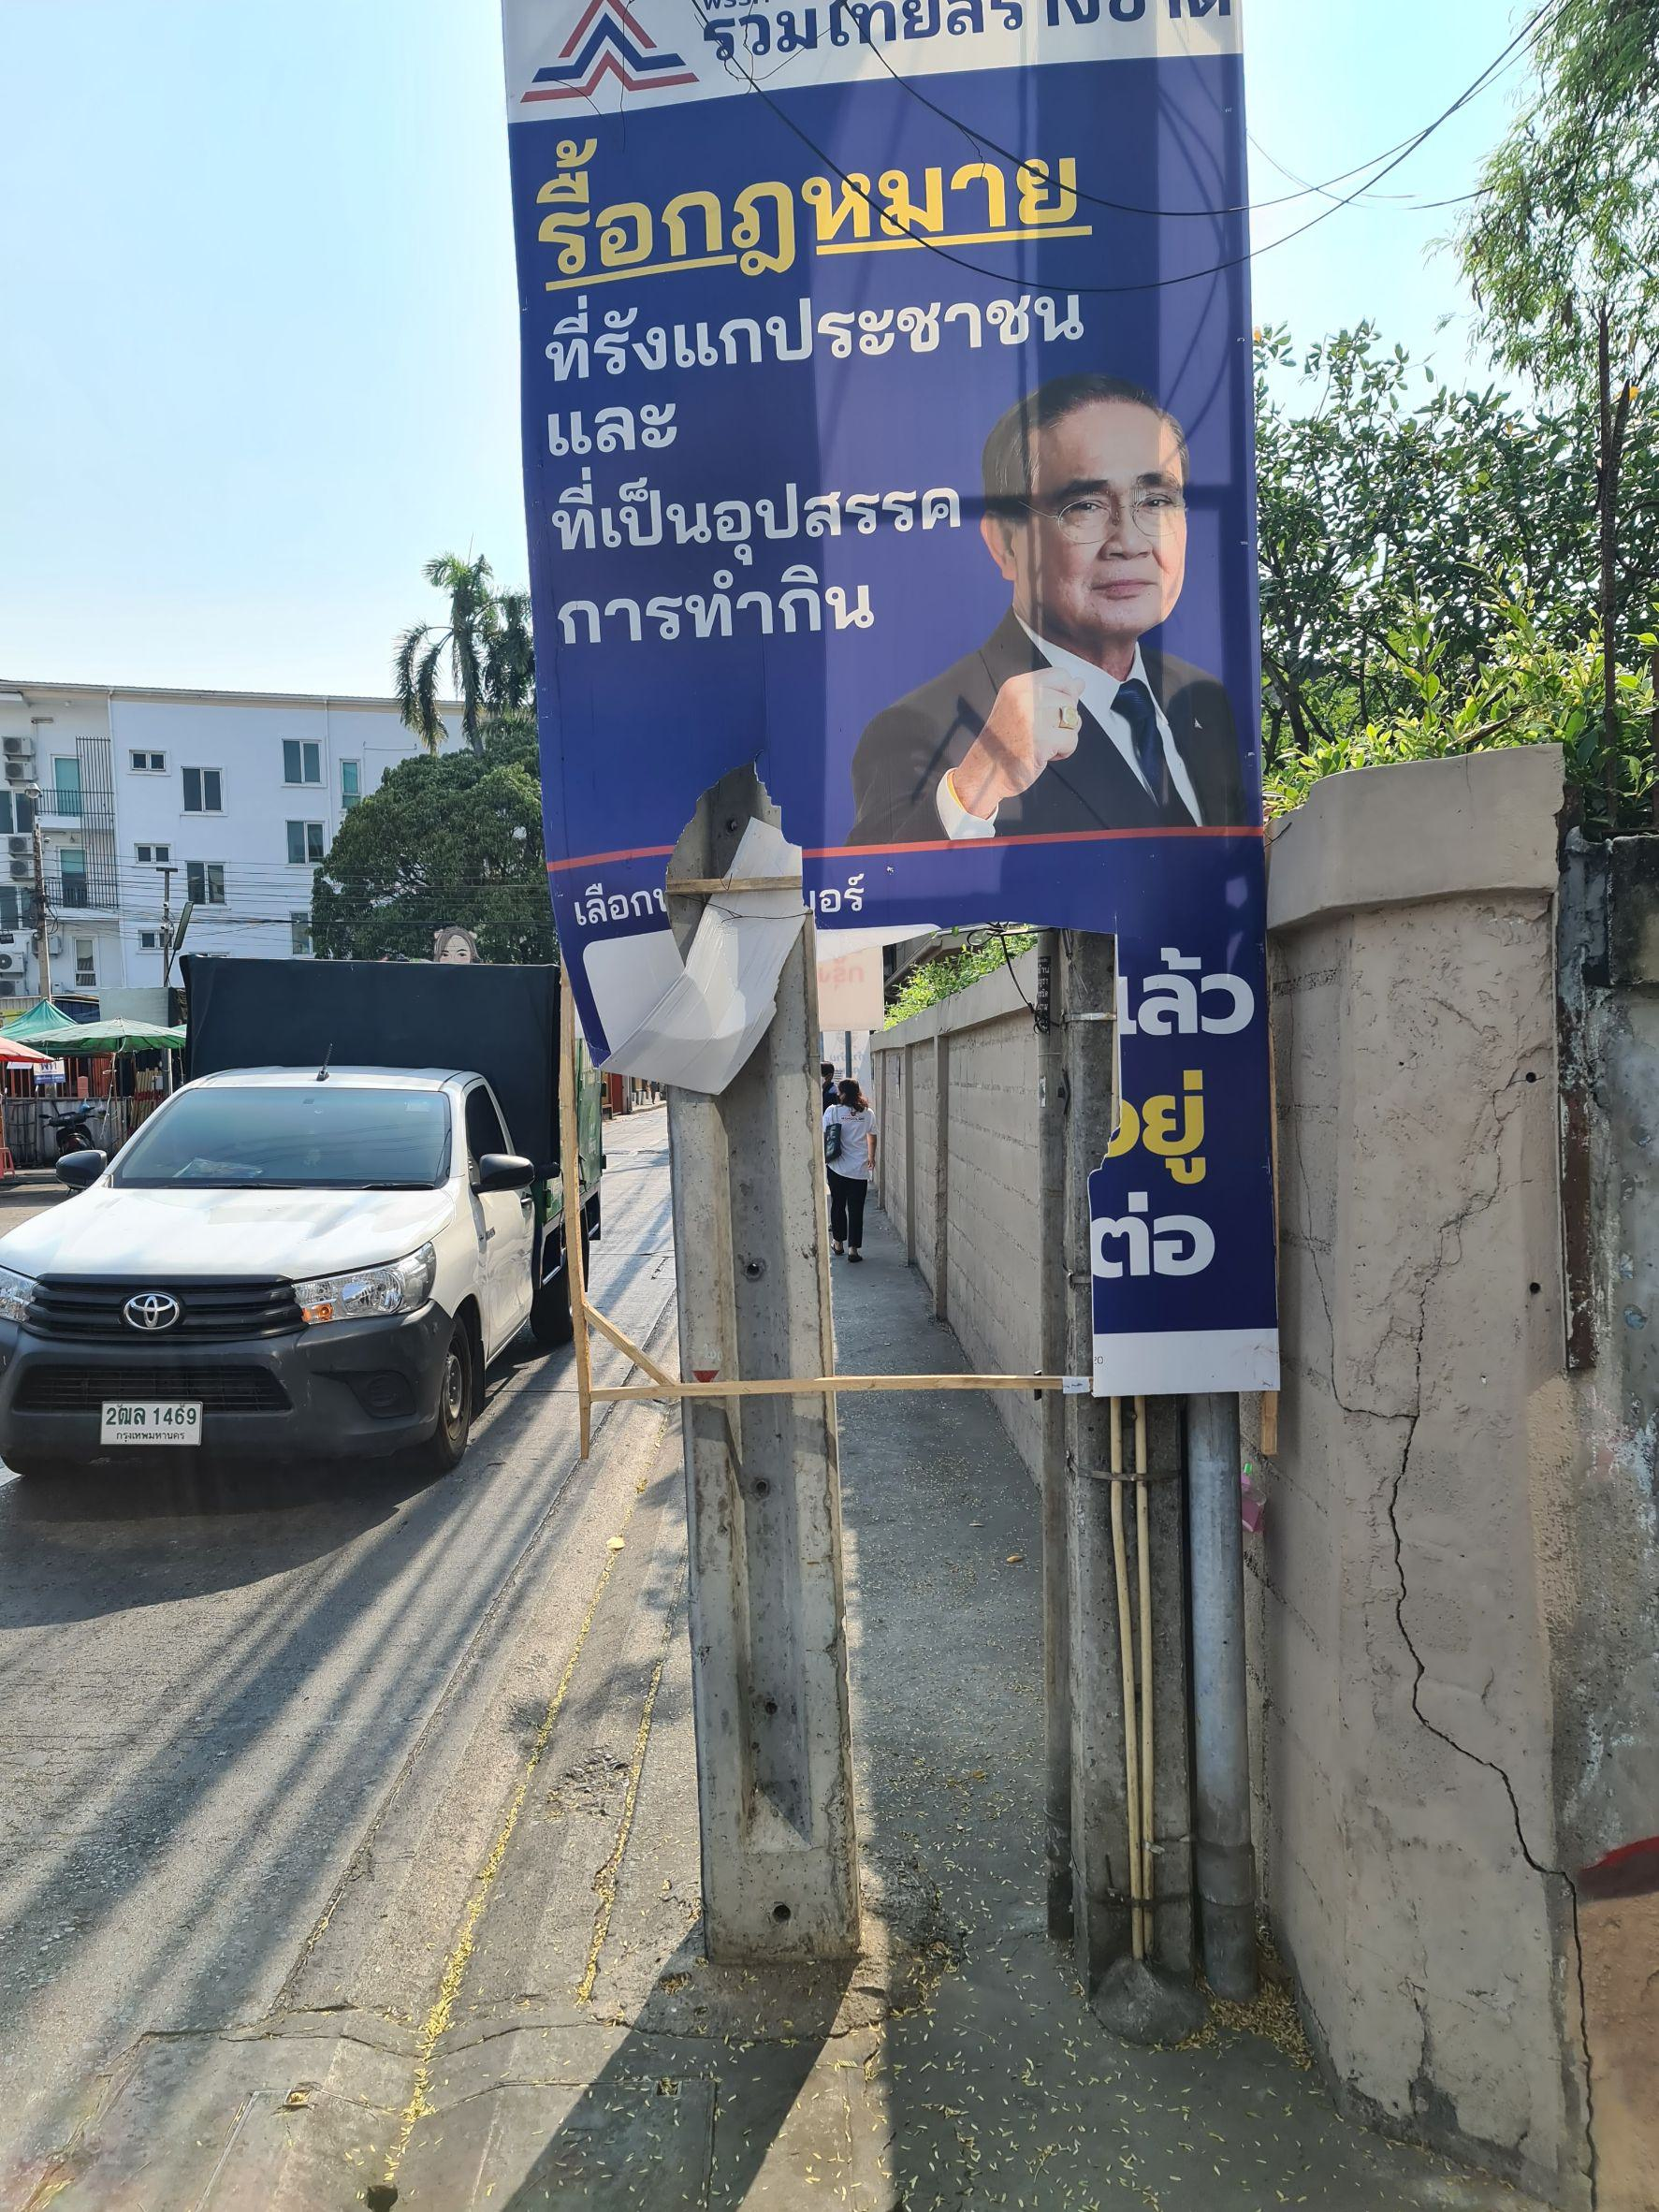Banner: (497, 7, 1279, 1420)
